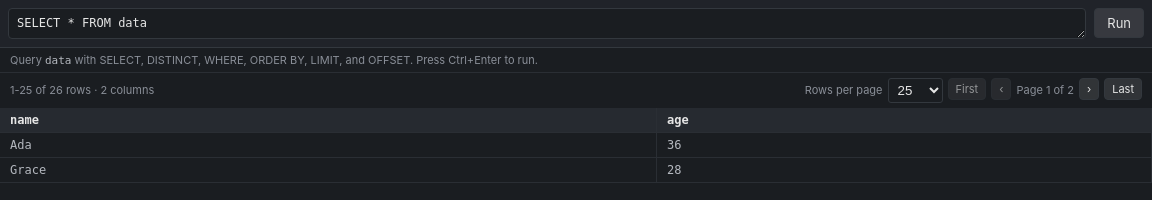
DataPane › loads the next page
This screenshot has width=1152, height=200.
Check: the text "Ada" is shown, box [0,132,656,157]
What coordinates should you click on to do the following:
click the button named "Next page"
I would click on:
 (1089, 89)
Its box is [1079,78,1099,100].
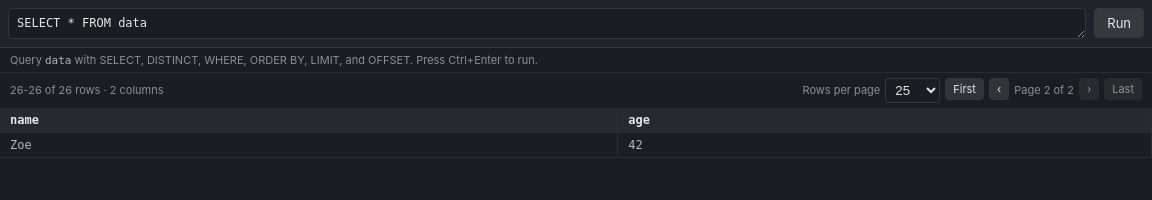
Check: the text "Zoe" is shown, box [0,132,618,157]
